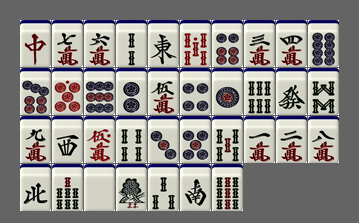0m: (84, 116, 115, 163)
0p: (52, 68, 83, 115)
0s: (180, 20, 211, 67)
1m: (244, 116, 275, 163)
1p: (212, 68, 243, 115)
1s: (116, 164, 147, 211)
1z: (148, 20, 179, 67)
2m: (276, 116, 307, 163)
2p: (116, 68, 147, 115)
2s: (116, 20, 147, 67)
2z: (180, 164, 211, 211)
3m: (244, 20, 275, 67)
3p: (148, 116, 179, 163)
3s: (148, 164, 179, 211)
3z: (52, 116, 83, 163)
4m: (276, 20, 307, 67)
4p: (180, 68, 211, 115)
4s: (116, 116, 147, 163)
4z: (20, 164, 51, 211)
5m: (148, 68, 179, 115)
5p: (180, 116, 211, 163)
5s: (212, 116, 243, 163)
5z: (84, 164, 115, 211)
6m: (84, 20, 115, 67)
6p: (212, 20, 243, 67)
6s: (244, 68, 275, 115)
6z: (276, 68, 307, 115)
7m: (52, 20, 83, 67)
7p: (20, 68, 51, 115)
7s: (52, 164, 83, 211)
7z: (20, 20, 51, 67)
8m: (308, 116, 339, 163)
8p: (308, 20, 339, 67)
8s: (308, 68, 339, 115)
9m: (20, 116, 51, 163)
9p: (84, 68, 115, 115)
9s: (212, 164, 243, 211)
